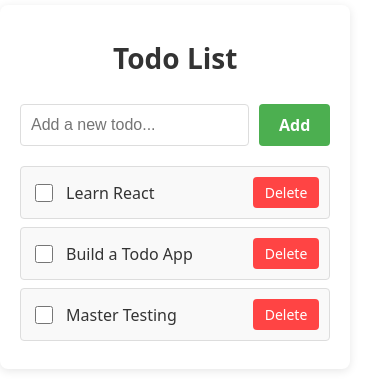
Test: TodoList Component › Deleting Todos › removes correct todo when multiple delete buttons are present
Expected: the text "Learn React" is shown, [66,182,154,204]
Expected: the text "Build a Todo App" is shown, [66,243,193,265]
Click the button "Delete" next to "Build a Todo App".
click(286, 254)  # box [253,238,319,269]
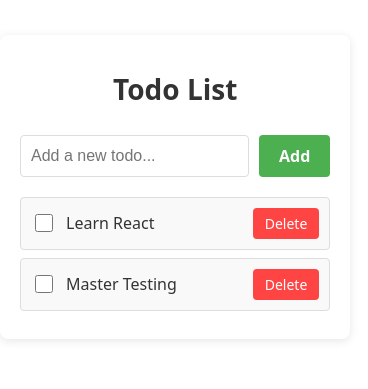
Expected: the text "Learn React" is shown, [66,212,154,234]
Now the text "Build a Todo App" is gone
